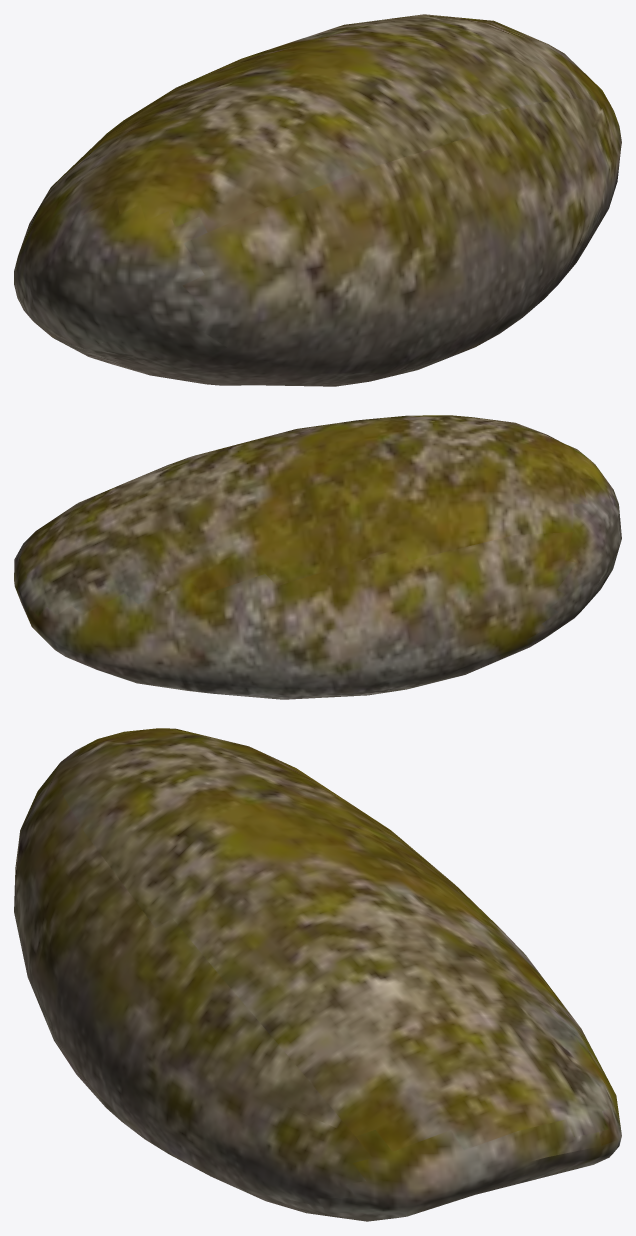
The model's file is mossy-stones.lod0.glb.
3 views of the same model, one above another, from view 1: azimuth 30°, elevation 25°; view 2: azimuth 150°, elevation 25°; view 3: azimuth 270°, elevation 25° (orthographic). The views are drawn at different scales.
Visible parts, largest first — view 1: defaultMaterial; view 2: defaultMaterial; view 3: defaultMaterial.
Part boxes in pixels (x1=…): defaultMaterial: x1=14, y1=14, x2=621, y2=386; defaultMaterial: x1=14, y1=415, x2=621, y2=699; defaultMaterial: x1=14, y1=728, x2=621, y2=1221.
Bounding box in the file's own units: 1.2 × 0.4931 × 0.9349.
Materials: 1 (1 with a texture image).
